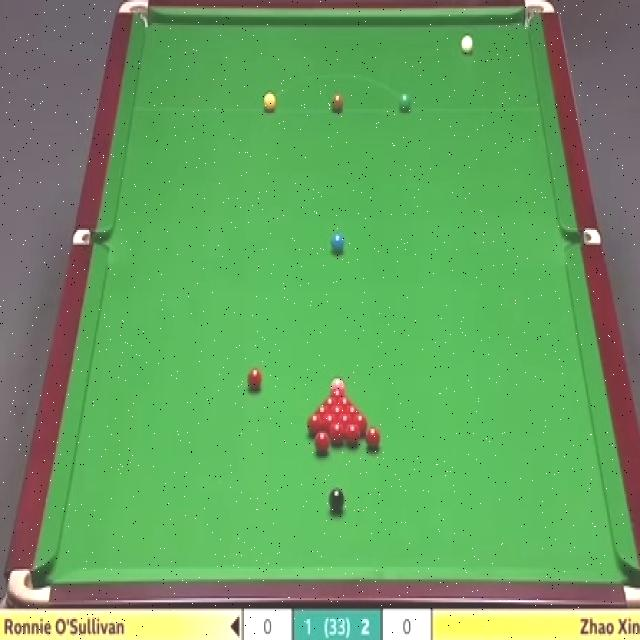black-ball: (327, 486, 345, 514)
blue-ball: (330, 232, 345, 254)
brown-ball: (330, 90, 345, 113)
green-ball: (396, 92, 412, 113)
pink-ball: (329, 377, 346, 392)
red-ball: (246, 366, 264, 392), (366, 426, 382, 453), (305, 412, 325, 433), (314, 430, 331, 453), (345, 422, 361, 446), (329, 422, 346, 443), (340, 414, 354, 434), (354, 413, 367, 432), (324, 413, 339, 429), (345, 405, 362, 414), (315, 405, 331, 414), (328, 390, 346, 398), (331, 406, 347, 414), (322, 398, 338, 406), (337, 397, 352, 405)
white-ball: (460, 33, 475, 53)
yellow-ball: (262, 90, 276, 112)
